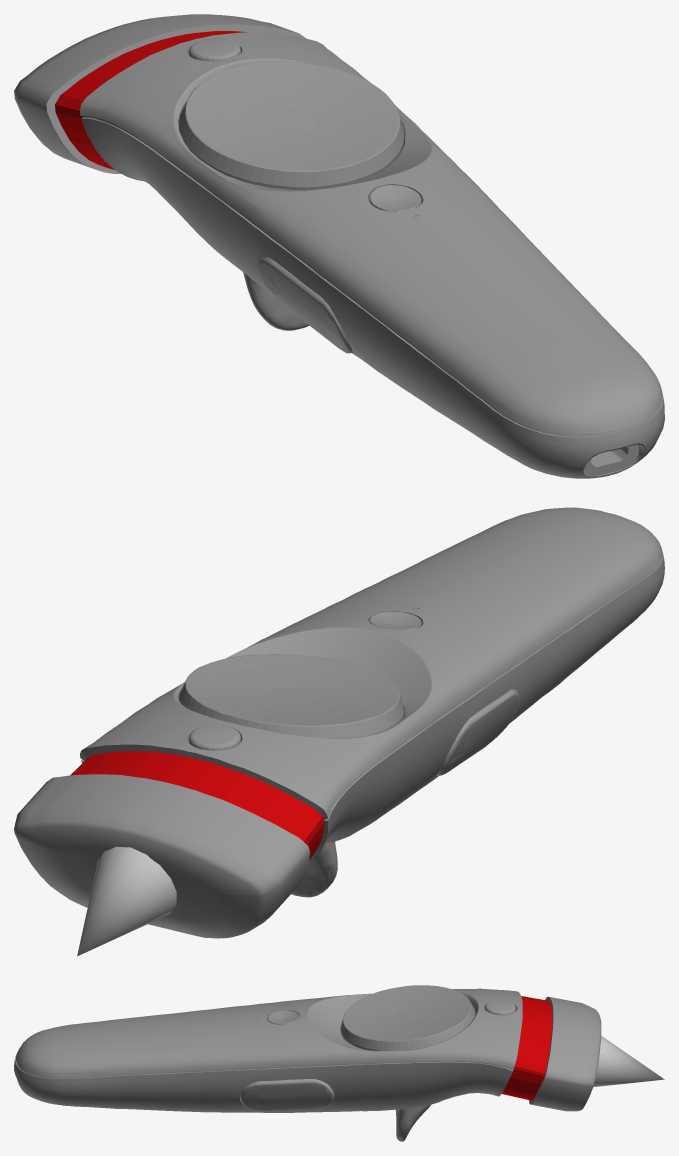
The model's file is controller.obj.
3 renders of one model, top to bottom at view 1: azimuth 30°, elevation 25°; view 2: azimuth 150°, elevation 25°; view 3: azimuth 270°, elevation 25°, orthographic. The views are drawn at different scales.
Parts seen in each view (by area): view 1: body, touchpad, body2_body.001, color_body.002, leftgrip, trigger, systembutton, menubutton; view 2: body, body2_body.001, touchpad, color_body.002, tip_Cone, leftgrip, trigger, menubutton, systembutton; view 3: body, touchpad, body2_body.001, color_body.002, rightgrip, tip_Cone, trigger, menubutton, systembutton.
Boxes of the visible parts, <box> form: body: <box>80,32,664,478</box>; touchpad: <box>178,61,404,190</box>; body2_body.001: <box>14,14,305,173</box>; color_body.002: <box>55,31,247,169</box>; leftgrip: <box>258,257,352,353</box>; trigger: <box>243,272,309,330</box>; systembutton: <box>369,185,421,211</box>; menubutton: <box>189,38,240,61</box>; body: <box>80,507,664,860</box>; body2_body.001: <box>14,774,310,938</box>; touchpad: <box>179,654,404,738</box>; color_body.002: <box>70,751,324,859</box>; tip_Cone: <box>77,846,176,956</box>; leftgrip: <box>437,689,519,775</box>; trigger: <box>291,841,337,897</box>; menubutton: <box>189,724,240,750</box>; systembutton: <box>369,611,421,630</box>; body: <box>14,988,522,1112</box>; touchpad: <box>340,985,475,1051</box>; body2_body.001: <box>529,996,601,1111</box>; color_body.002: <box>502,996,552,1100</box>; rightgrip: <box>240,1079,333,1110</box>; tip_Cone: <box>593,1036,664,1086</box>; trigger: <box>395,1104,431,1141</box>; menubutton: <box>484,1000,515,1015</box>; systembutton: <box>267,1010,298,1024</box>.
Bounding box in the file's own units: 0.0577 × 0.0465 × 0.2056.
